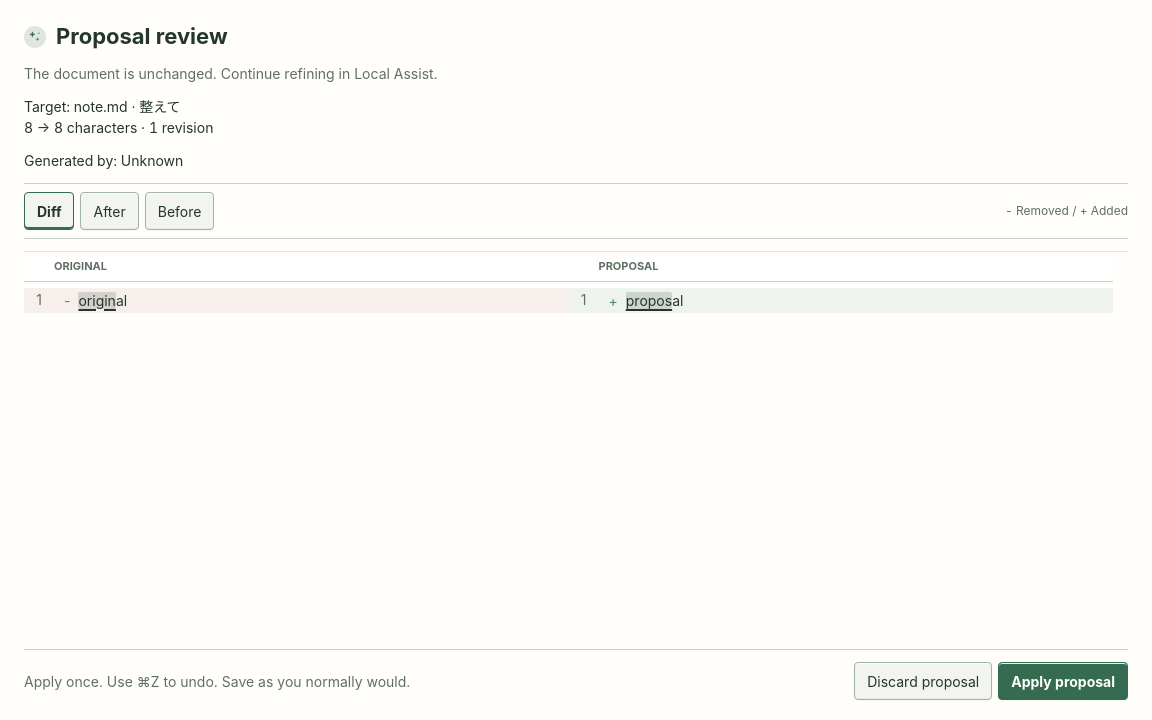
Test: LocalAssistProposalReview › catches thrown apply failures and retains the proposal
The width and height of the screenshot is (1152, 720).
What coordinates should you click on to do the following:
click the button "Apply proposal"
I would click on:
 (1063, 681)
Its box is [998,662,1128,700].
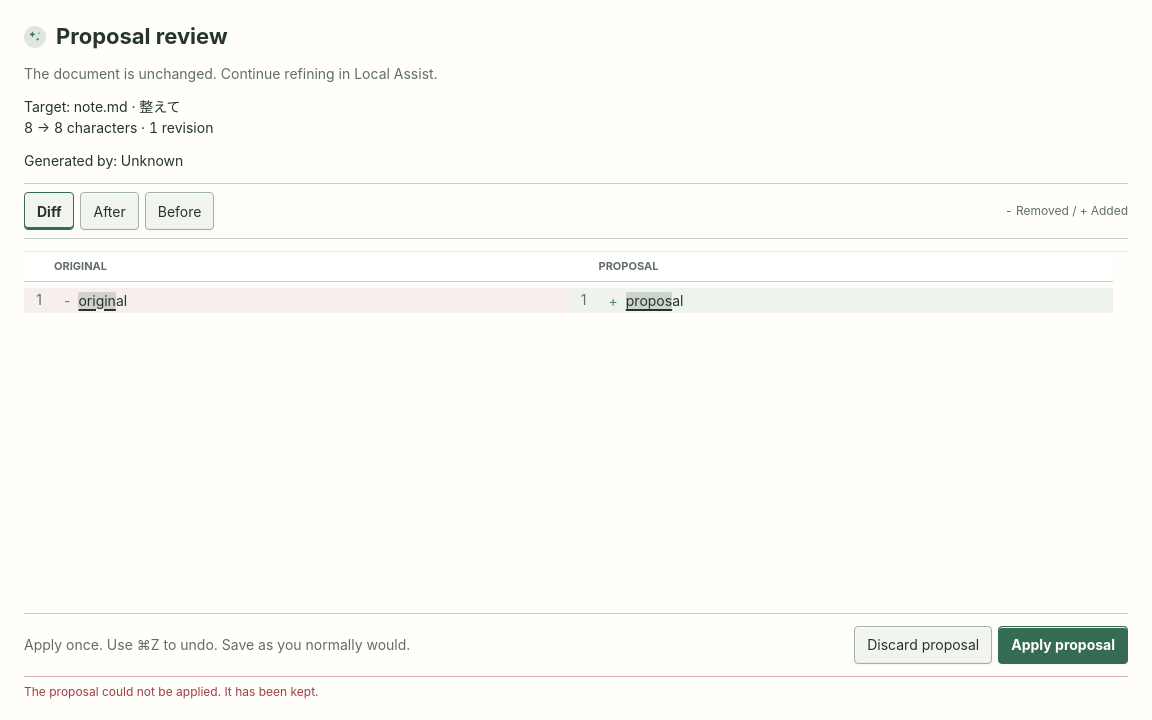
expect the button "Apply proposal" is enabled: met, box [998,626,1128,664]
expect the message shows "kept": met, box [24,684,319,699]
